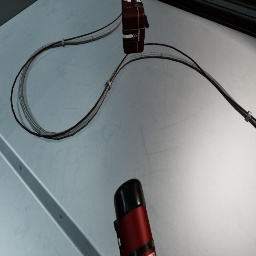FireExtinguisher ]: (114, 178, 156, 256)
FirstAidBox ,: (121, 0, 149, 54)
